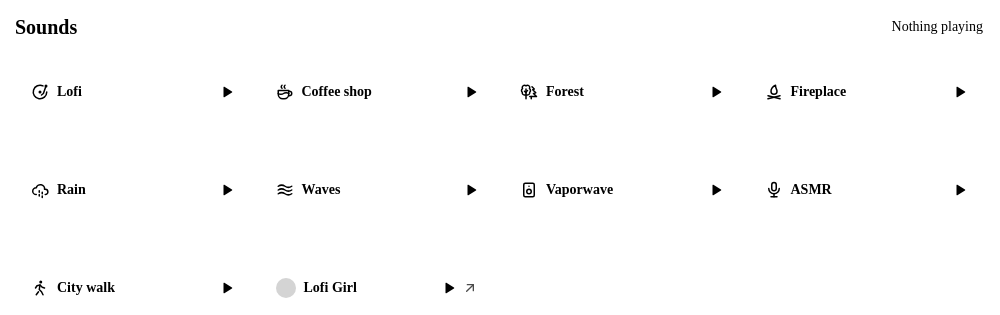
<Playlist /> › lists the sounds that are playing and shows their volume
Click the button "Lofi". click: x=132, y=92
box: [31,81,234,103]
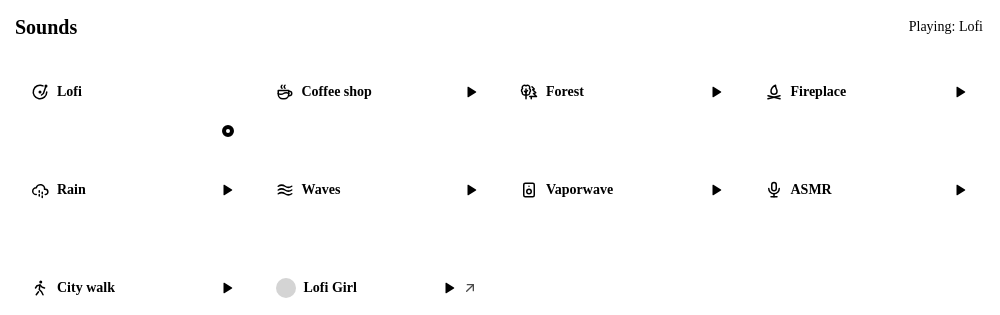
Click the button "Rain". click: x=132, y=190
box: [31,179,234,201]
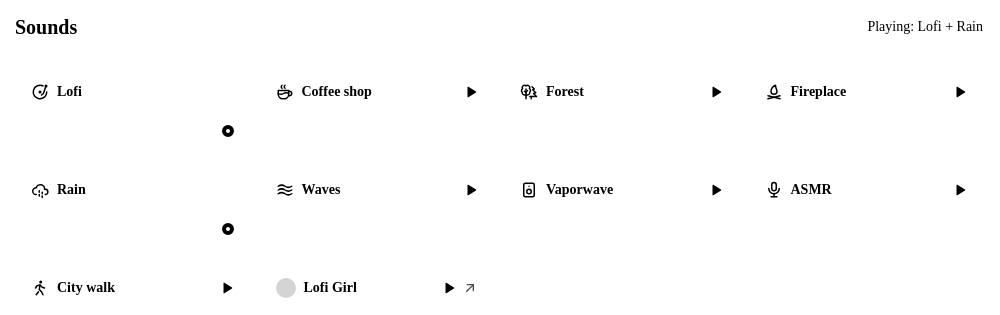
Expected: the text "Playing: Lofi + Rain" is shown, [867,16,983,38]
Expected: the slider named "Rain volume" is shown, [222,223,234,235]
Click the button "Lofi". click: x=132, y=92
box: [31,81,234,103]
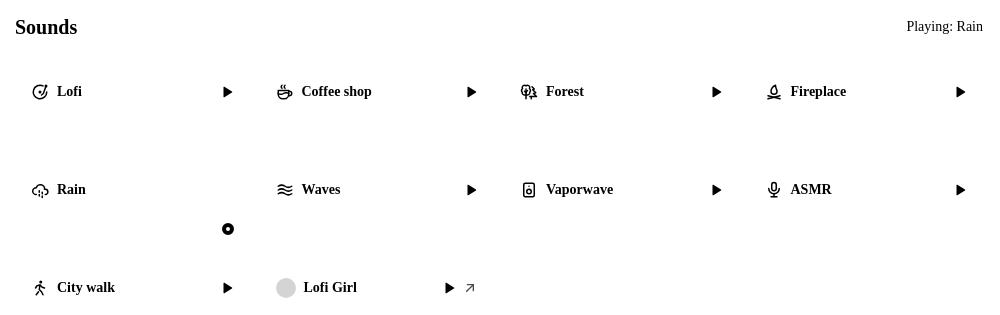
Expected: the text "Playing: Rain" is shown, [906,16,983,38]
